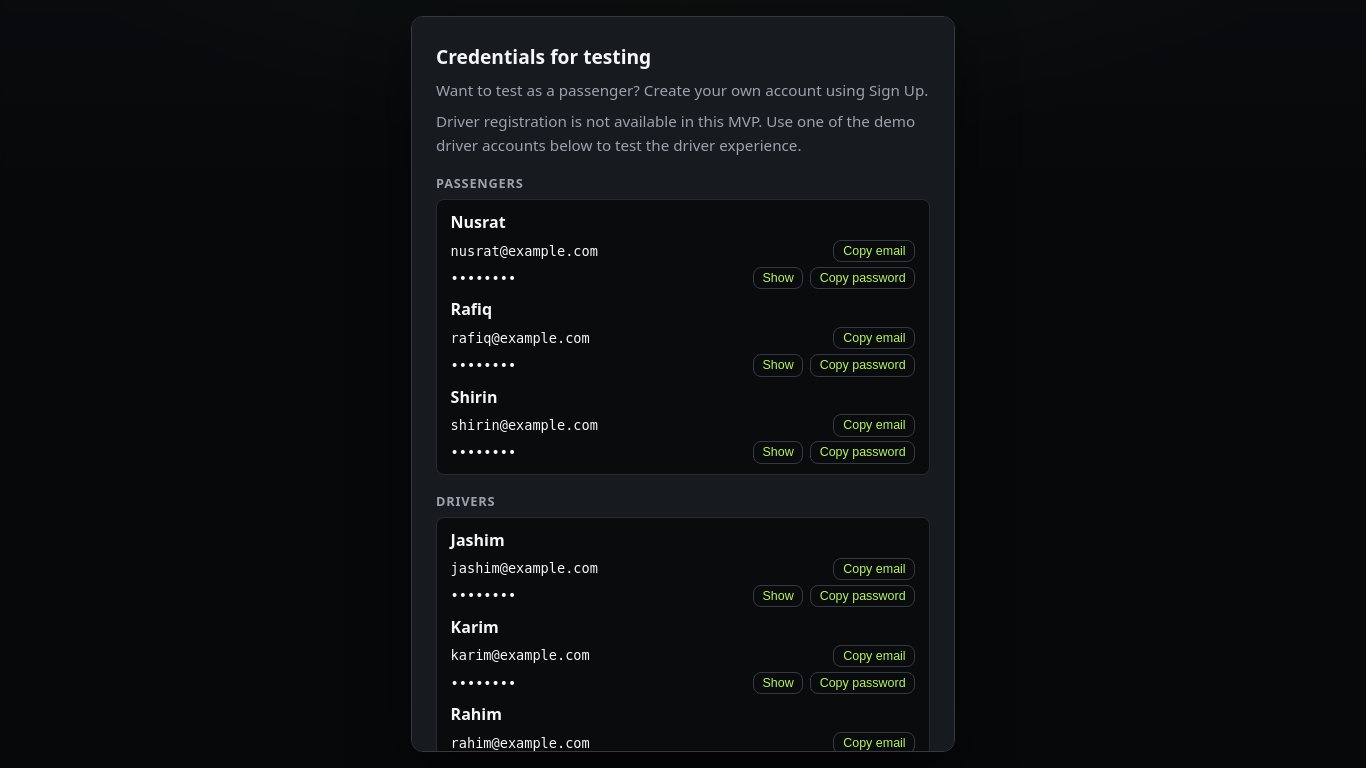
Test: CredentialsModal › masks passwords until revealed, then shows them
expect the text "Nusrat@teslapool" is not shown: met
Click the button with aria-label "Reveal password for Nusrat": (778, 278) [753,267,804,289]
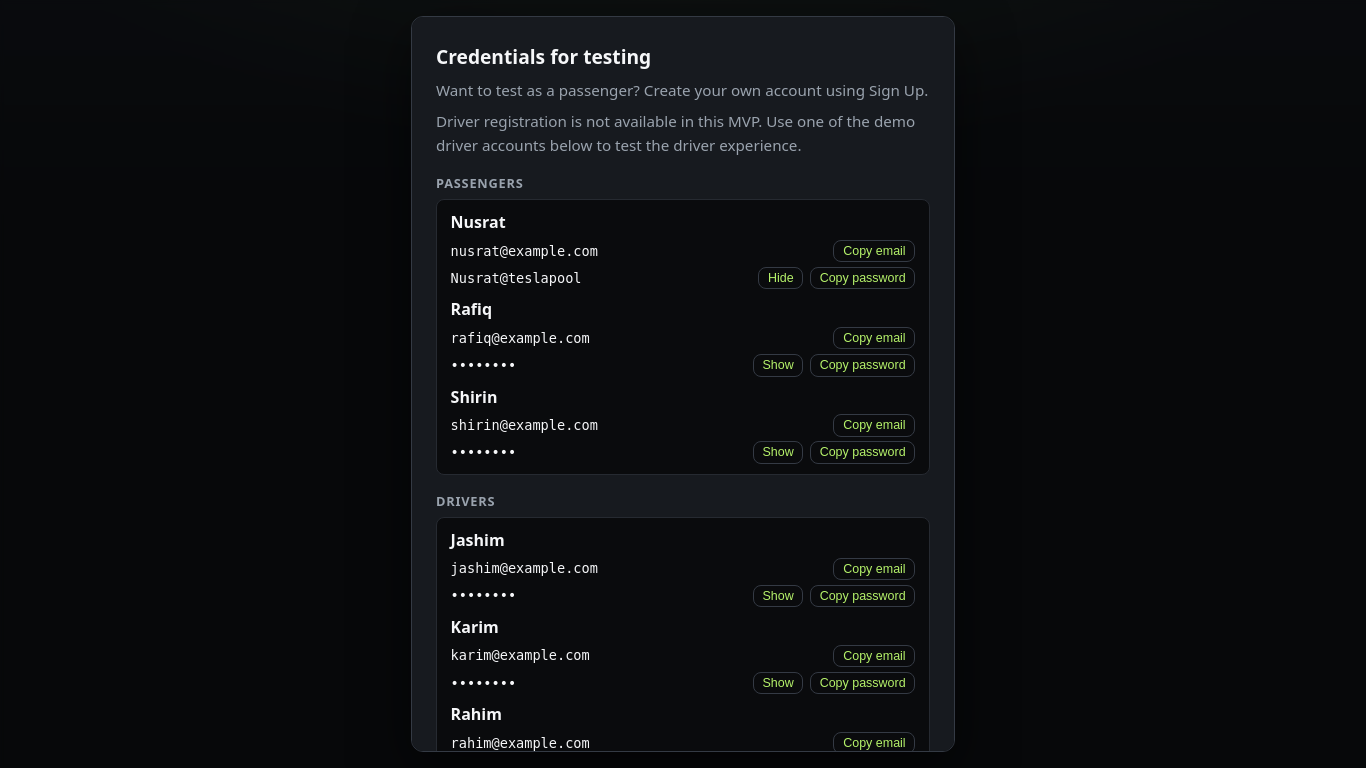
expect the text "Nusrat@teslapool" is shown: met, box [451,270,582,286]
Click the button with aria-label "Hide password for Nusrat": (781, 278) [758,267,804,289]
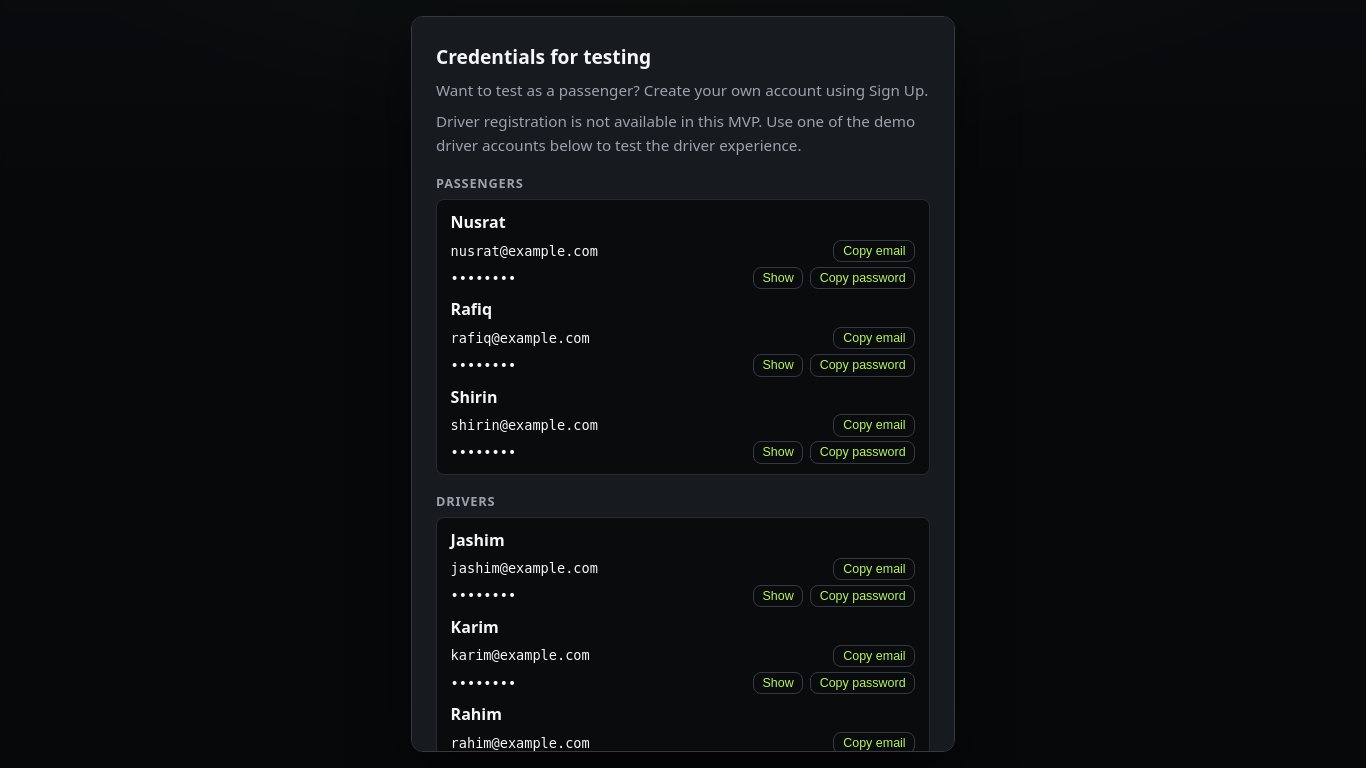
expect the text "Nusrat@teslapool" is gone: met
